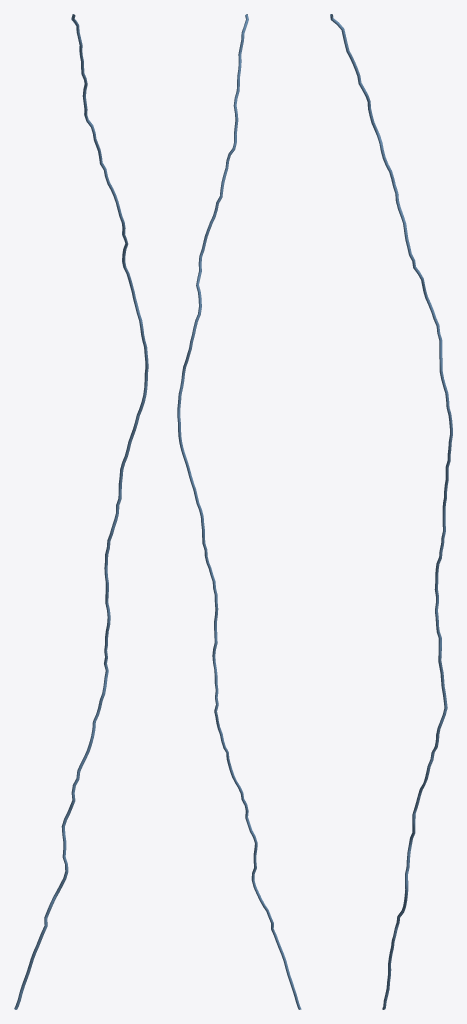
File: sweep59.fbx
3 renders of one model, left to right at view 1: azimuth 30°, elevation 25°; view 2: azimuth 210°, elevation 25°; view 3: azimuth 330°, elevation 25°, orthographic. The views are drawn at different scales.
Parts seen in each view (by area): view 1: sweep59; view 2: sweep59; view 3: sweep59.
Part boxes in pixels (left/top/right/bottom): sweep59: left=14, top=14, right=148, bottom=1009; sweep59: left=177, top=14, right=301, bottom=1009; sweep59: left=330, top=14, right=452, bottom=1009.
Size of the model in its own units: 0.721 by 7.01 by 0.6955.
